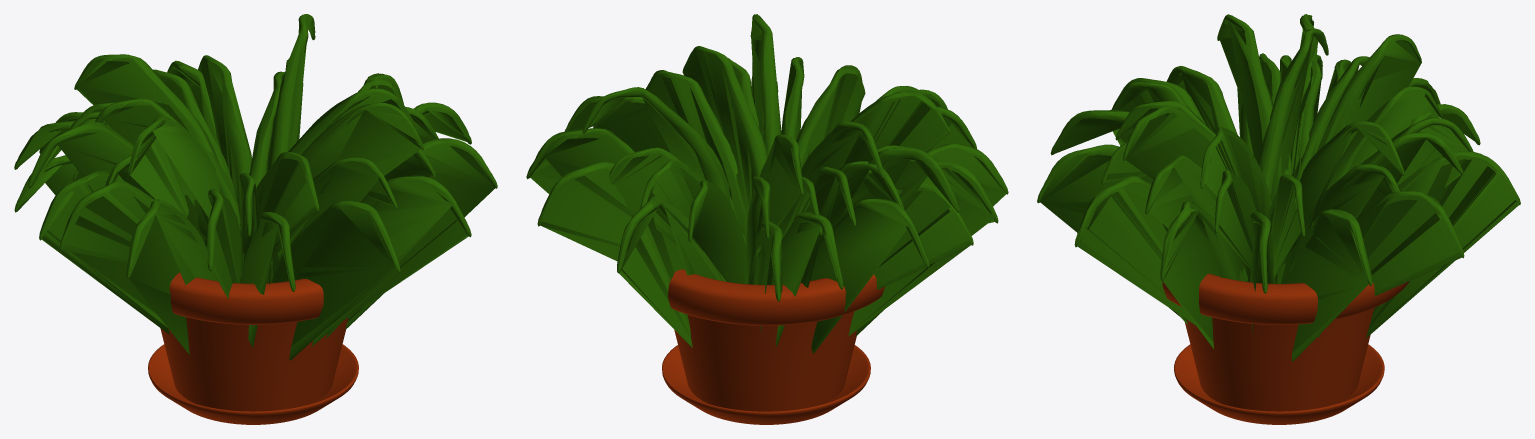
The model's file is maceta2.fbx.
The picture shows the model from 3 angles, left to right: view 1: azimuth 30°, elevation 25°; view 2: azimuth 150°, elevation 25°; view 3: azimuth 270°, elevation 25°; orthographic projection.
Visible parts, largest first — view 1: maceta2; view 2: maceta2; view 3: maceta2.
Boxes of the visible parts, x1,y1,x2,y2 form: maceta2: (14,14,497,424); maceta2: (526,14,1008,424); maceta2: (1037,14,1520,424).
Size of the model in its own units: 42.97 by 31.26 by 42.43.
